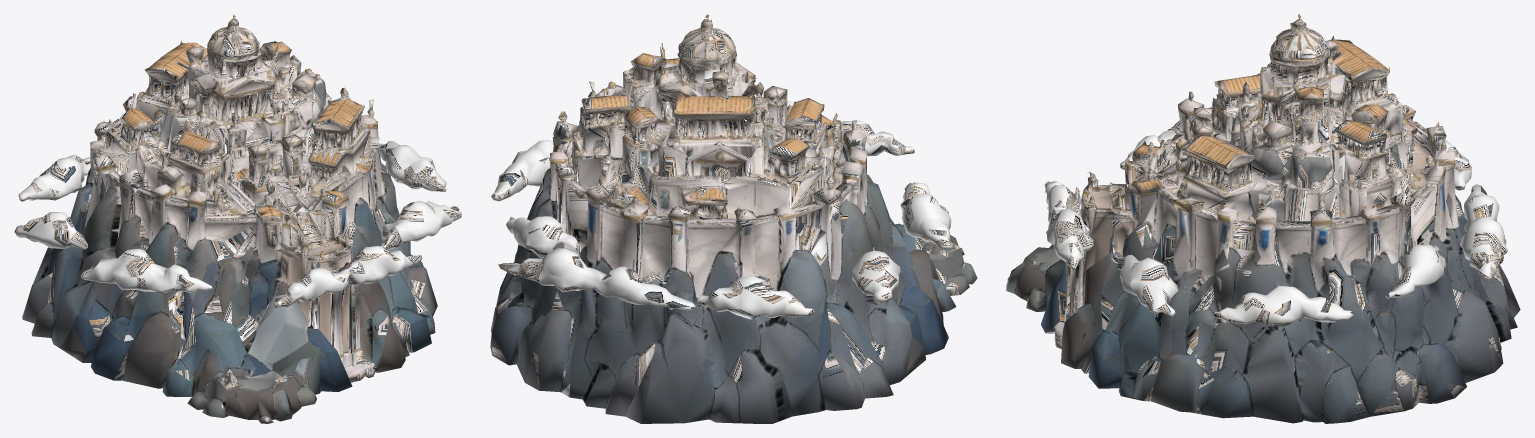
Rendered from Citadel_of_the_Clouds.glb.
3 renders of one model, left to right at view 1: azimuth 30°, elevation 25°; view 2: azimuth 150°, elevation 25°; view 3: azimuth 270°, elevation 25°, orthographic. The views are drawn at different scales.
Visible parts, largest first — view 1: Citadel_of_the_Clouds; view 2: Citadel_of_the_Clouds; view 3: Citadel_of_the_Clouds.
Part boxes in pixels (x1=…): Citadel_of_the_Clouds: x1=14, y1=14, x2=461, y2=423; Citadel_of_the_Clouds: x1=490, y1=14, x2=977, y2=423; Citadel_of_the_Clouds: x1=1006, y1=14, x2=1520, y2=423.
Size of the model in its own units: 1.79 by 1.3 by 1.91.
Materials: 1 (1 with a texture image).
